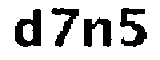5: (117, 4, 150, 51)
7: (47, 6, 80, 51)
d: (12, 7, 44, 52)
n: (84, 16, 114, 54)
